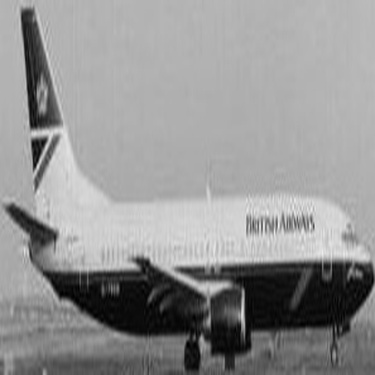airplane: (1, 14, 371, 372)
